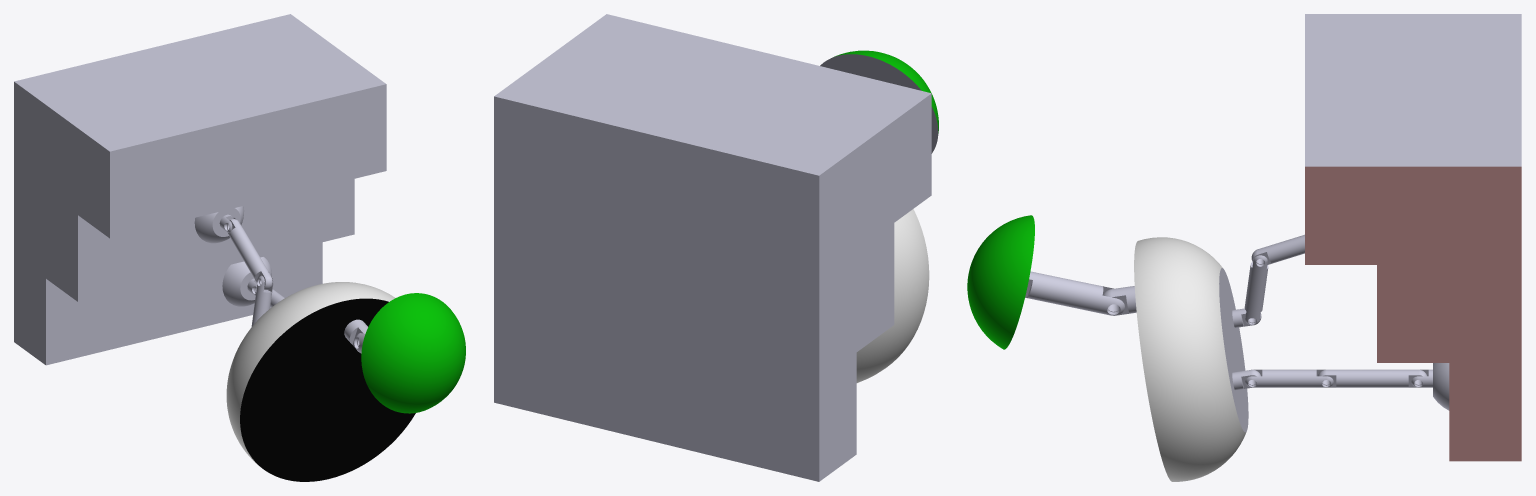
The model's file is Autruche.stp.glb.
3 views of the same model, side by side, from view 1: azimuth 30°, elevation 25°; view 2: azimuth 150°, elevation 25°; view 3: azimuth 270°, elevation 25° (orthographic). The views are drawn at different scales.
Visible parts, largest first — view 1: Escalier.1, Corps.1, Tete.1, Pied.1 (×2), Tibia.1, Femur.1; view 2: Escalier.1, Corps.1, Tete.1; view 3: Escalier.1, Corps.1, Tete.1, Tibia.1 (×2), Femur.1 (×2), Cou.1, Pied.1.
Boxes of the visible parts, <box> form: Escalier.1: <box>14,14,386,365</box>; Corps.1: <box>226,282,415,481</box>; Tete.1: <box>361,293,465,413</box>; Pied.1 (×2): <box>194,206,271,306</box>; Tibia.1: <box>227,218,272,289</box>; Femur.1: <box>251,275,273,326</box>; Escalier.1: <box>494,14,931,481</box>; Corps.1: <box>856,209,929,382</box>; Tete.1: <box>820,50,938,153</box>; Escalier.1: <box>1305,14,1521,461</box>; Corps.1: <box>1102,237,1261,481</box>; Tete.1: <box>967,215,1034,349</box>; Tibia.1 (×2): <box>1251,234,1426,387</box>; Femur.1 (×2): <box>1244,255,1333,387</box>; Cou.1: <box>1025,271,1124,315</box>; Pied.1: <box>1411,363,1449,410</box>.
Size of the model in its own units: 400 by 450 by 614.
